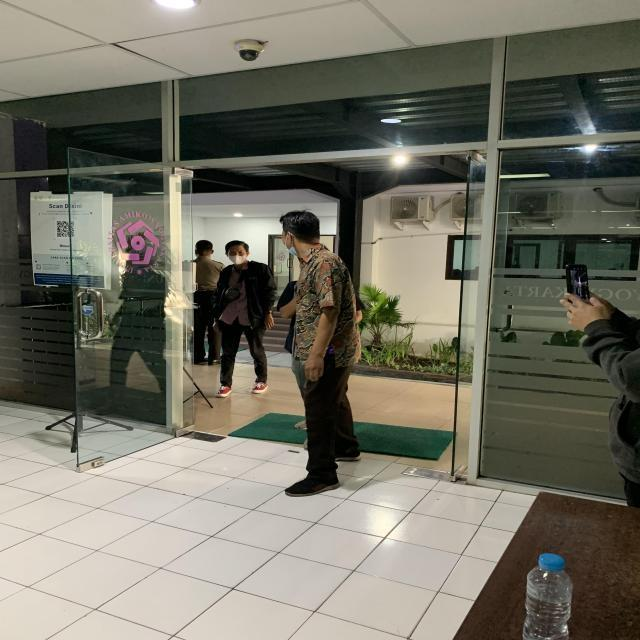hairnet: (281, 233, 302, 257)
